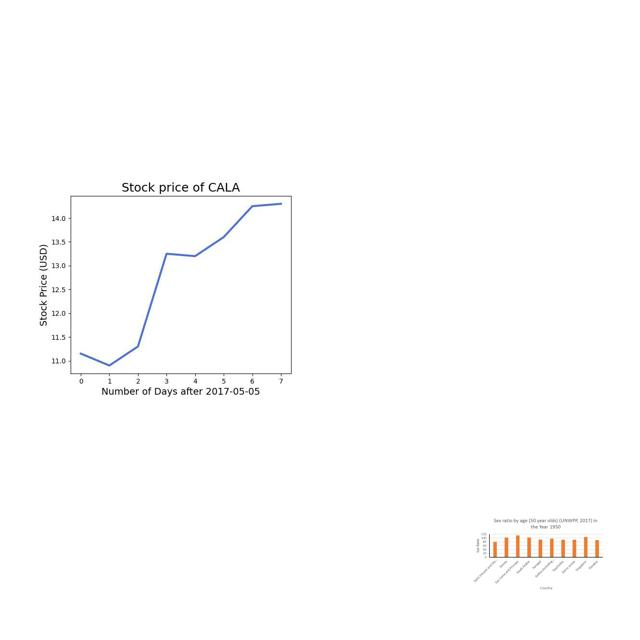Graph: (23, 168, 331, 399), (472, 515, 604, 591)
